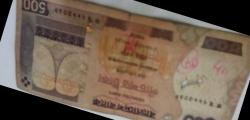500 taka: (17, 2, 233, 118)
